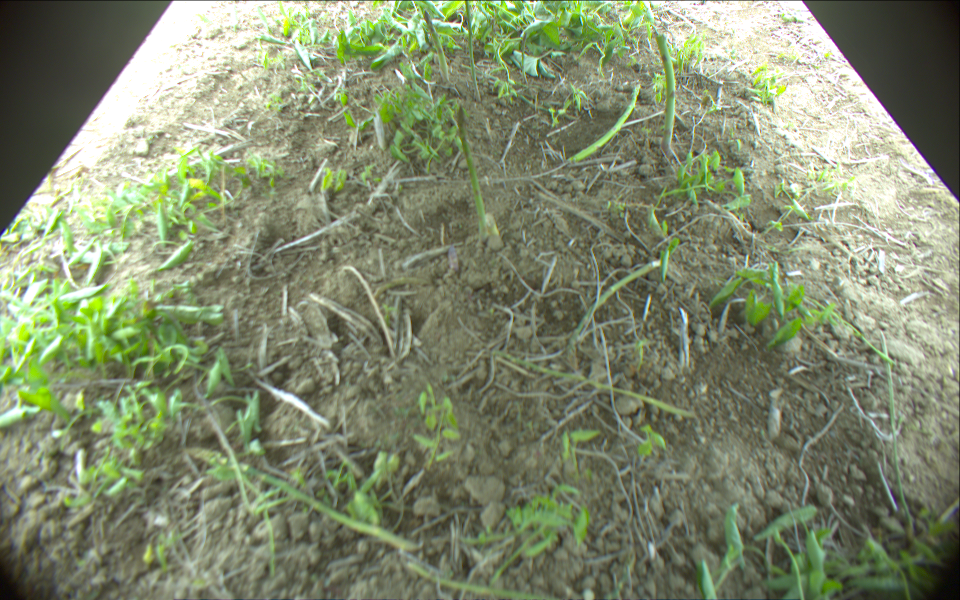aspa: (194, 448, 418, 551), (494, 347, 693, 419), (562, 258, 660, 361), (563, 83, 639, 169), (456, 108, 488, 237), (655, 32, 681, 166), (462, 1, 481, 101), (424, 11, 450, 80)
